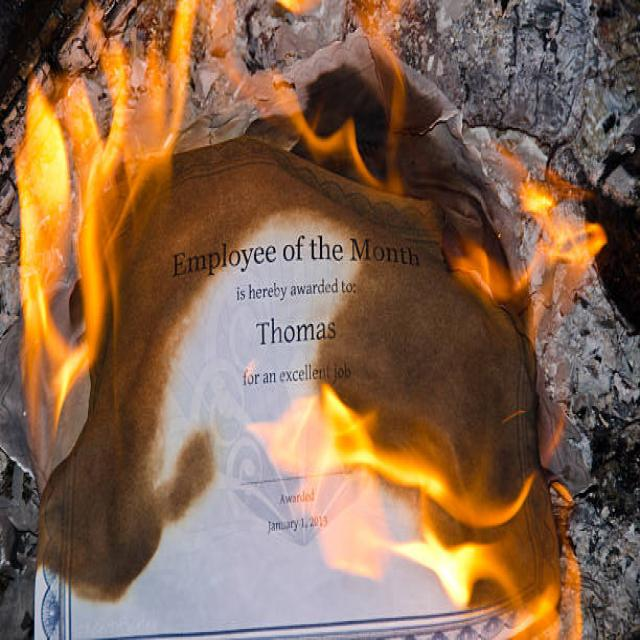fire: (14, 72, 71, 306), (379, 449, 537, 527), (17, 305, 85, 465), (73, 72, 110, 363), (393, 540, 522, 611), (84, 0, 127, 154), (160, 0, 200, 147), (320, 378, 376, 469), (537, 221, 607, 264), (512, 581, 563, 640), (518, 180, 554, 214)
